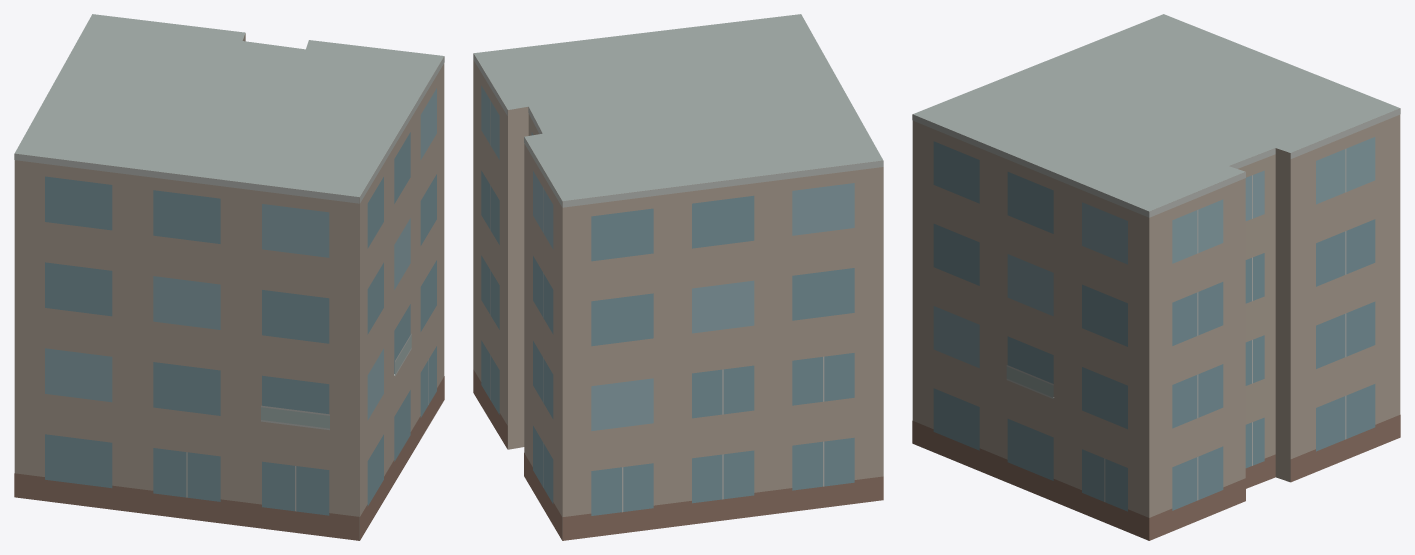
Rendered from survey-upis-32584596.glb.
3 views of the same model, side by side, from view 1: azimuth 30°, elevation 25°; view 2: azimuth 150°, elevation 25°; view 3: azimuth 270°, elevation 25° (orthographic). The views are drawn at different scales.
Visible parts, largest first — view 1: survey-upis-32584596.tmp; view 2: survey-upis-32584596.tmp; view 3: survey-upis-32584596.tmp.
Boxes of the visible parts, bbox=[...] form: survey-upis-32584596.tmp: bbox=[14, 14, 444, 540]; survey-upis-32584596.tmp: bbox=[473, 14, 883, 540]; survey-upis-32584596.tmp: bbox=[912, 14, 1400, 540].
Bounding box in the file's own units: 16.54 × 12.85 × 17.26.
